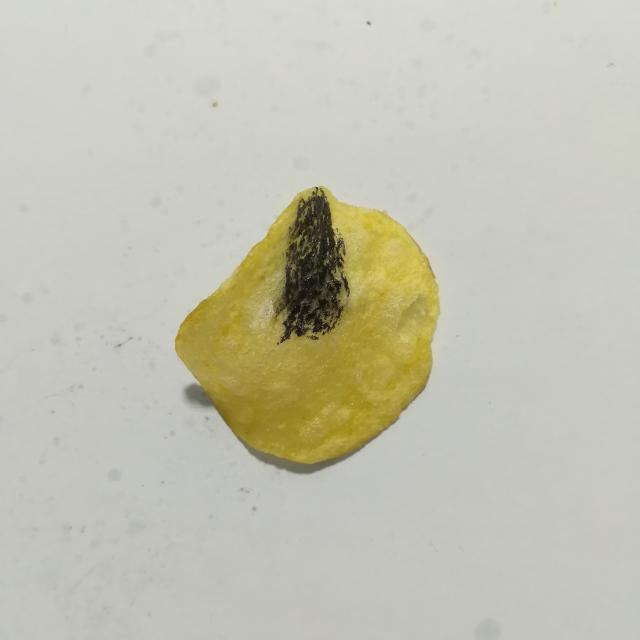chip: (175, 187, 439, 463)
damaged: (273, 187, 349, 343)
